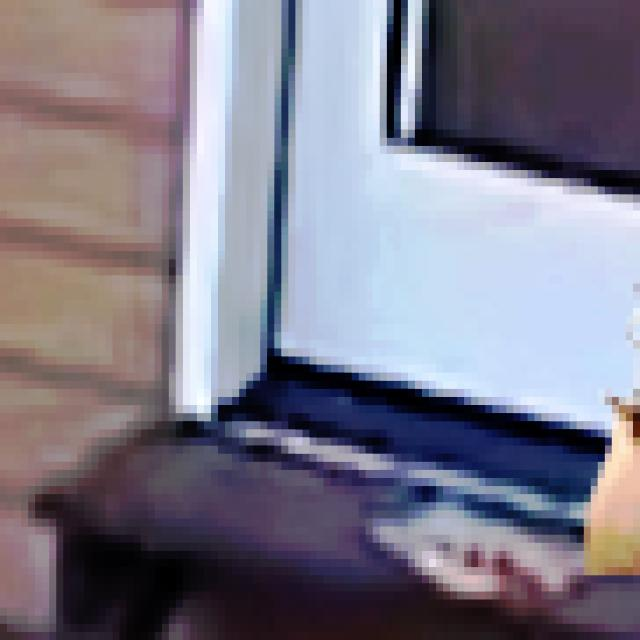arms: (562, 186, 640, 542)
